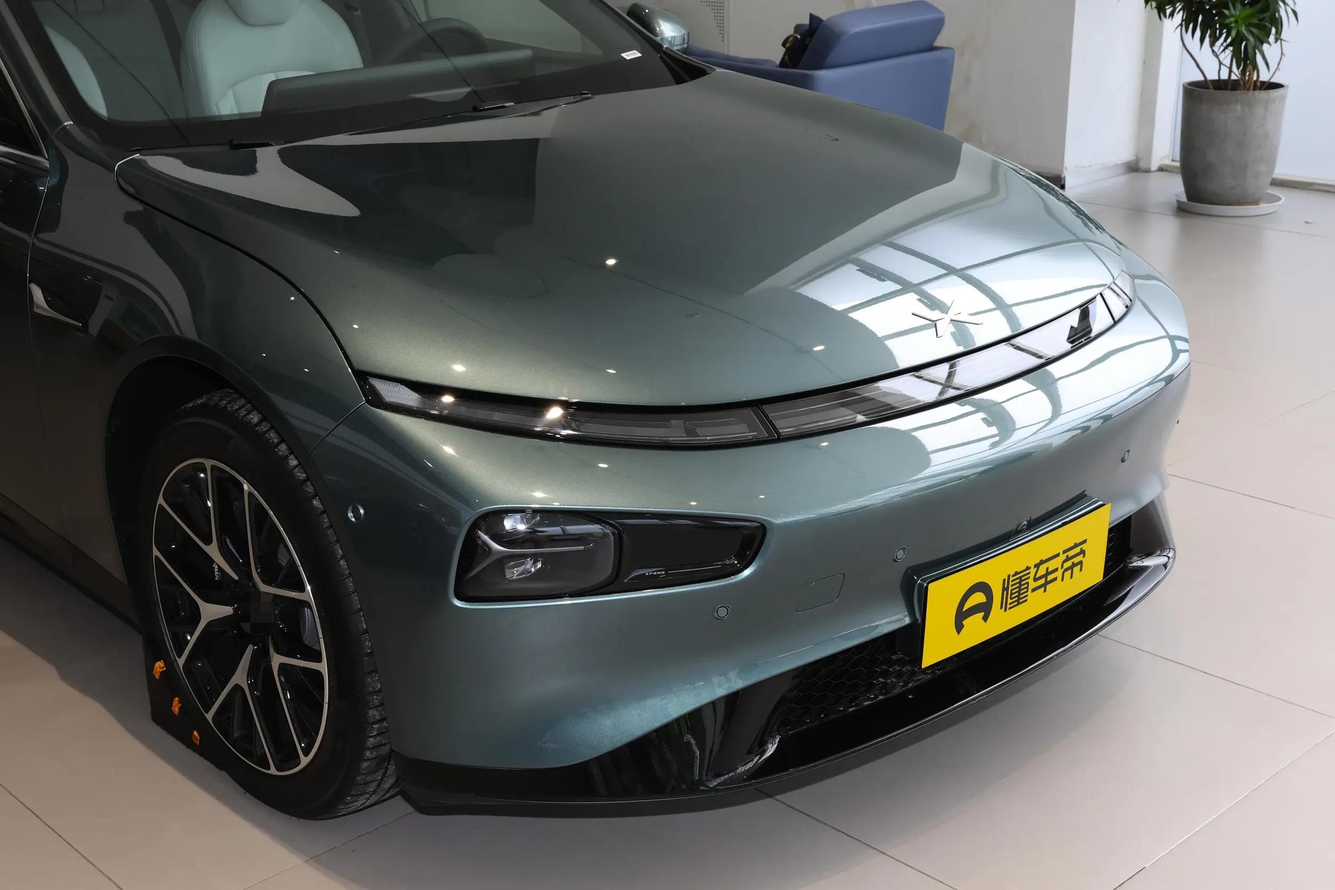XPeng Motors: (912, 298, 983, 337)
